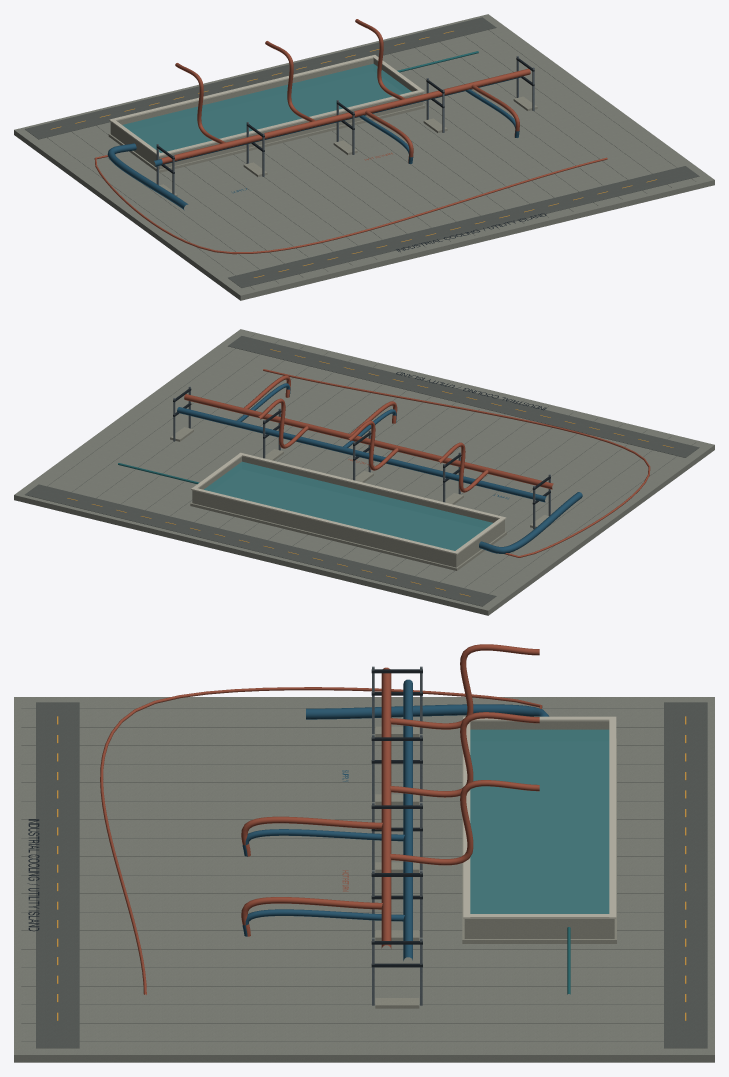
The model's file is cooling-site.5c2fc57386dd.glb.
The picture shows the model from 3 angles, top to bottom: view 1: azimuth 30°, elevation 25°; view 2: azimuth 150°, elevation 25°; view 3: azimuth 270°, elevation 25°; orthographic projection. The views are drawn at different scales.
Parts seen in each view (by area): view 1: structure_paving_00108, structure_slab_00109, bounded_free_surface_00063, structure_warm_00114, structure_concrete_00111, structure_cream_00112, structure_blue_00113, structure_steel_00115, structure_dark_00116, structure_yellow_00110; view 2: structure_paving_00108, structure_slab_00109, bounded_free_surface_00063, structure_concrete_00111, structure_warm_00114, structure_blue_00113, structure_cream_00112, structure_steel_00115, structure_dark_00116; view 3: structure_paving_00108, structure_slab_00109, bounded_free_surface_00063, structure_warm_00114, structure_concrete_00111, structure_blue_00113, structure_cream_00112, structure_dark_00116, structure_steel_00115.
Part boxes in pixels (<box>): structure_paving_00108: <box>14,14,714,300</box>; structure_slab_00109: <box>25,17,699,289</box>; bounded_free_surface_00063: <box>122,63,411,152</box>; structure_warm_00114: <box>94,19,607,254</box>; structure_concrete_00111: <box>108,58,537,196</box>; structure_cream_00112: <box>109,55,424,156</box>; structure_blue_00113: <box>107,76,522,210</box>; structure_steel_00115: <box>156,56,534,194</box>; structure_dark_00116: <box>156,58,546,251</box>; structure_yellow_00110: <box>51,31,656,277</box>; structure_paving_00108: <box>14,329,714,615</box>; structure_slab_00109: <box>25,334,699,606</box>; bounded_free_surface_00063: <box>204,461,492,550</box>; structure_concrete_00111: <box>170,427,548,570</box>; structure_warm_00114: <box>184,369,650,557</box>; structure_blue_00113: <box>177,383,582,553</box>; structure_cream_00112: <box>191,452,506,554</box>; structure_steel_00115: <box>173,386,550,529</box>; structure_dark_00116: <box>173,372,550,504</box>; structure_paving_00108: <box>14,697,714,1062</box>; structure_slab_00109: <box>21,702,707,1048</box>; bounded_free_surface_00063: <box>470,729,609,913</box>; structure_warm_00114: <box>100,644,542,994</box>; structure_concrete_00111: <box>375,721,616,1008</box>; structure_blue_00113: <box>242,679,549,960</box>; structure_cream_00112: <box>463,716,616,918</box>; structure_dark_00116: <box>27,669,422,967</box>; structure_steel_00115: <box>372,666,422,1005</box>.
Size of the model in its own units: 58 by 10.61 by 48.
11 materials, 5 textured.
